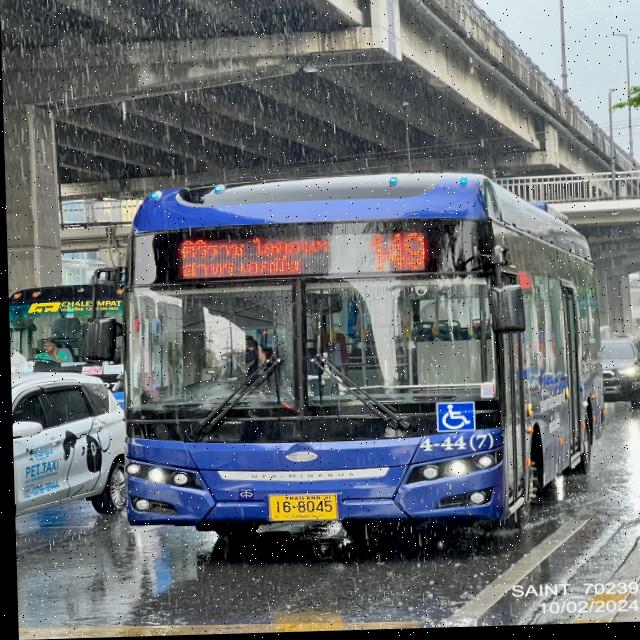Bus-Line-Number: (361, 228, 435, 278)
Destination-Sign-Normal: (172, 231, 338, 285)
TSB-Bus: (114, 171, 607, 564)
